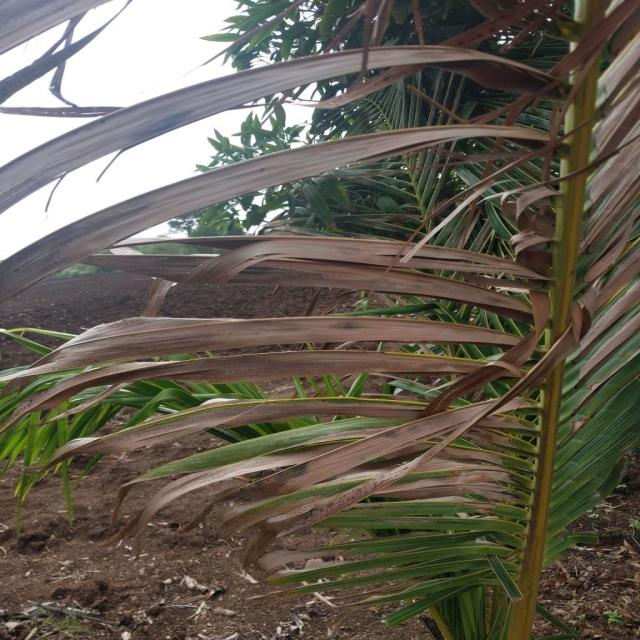gray leaf spot: (0, 0, 640, 640)
